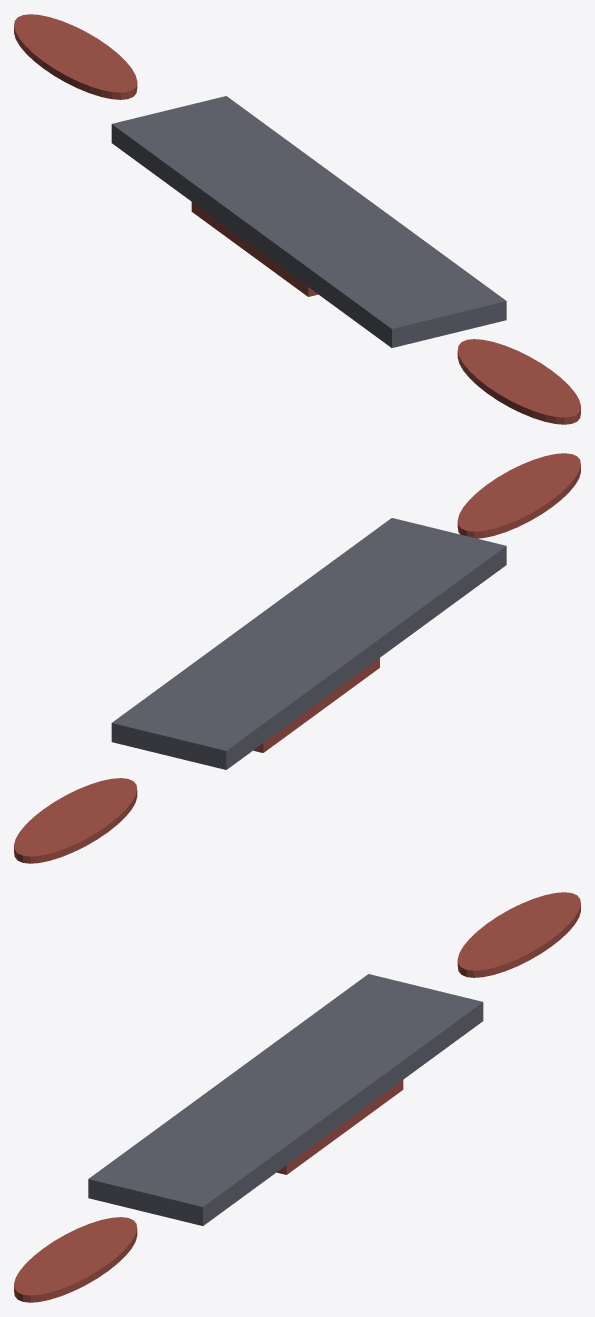
File: SU_SvyatogorCruiser_LOD1.glb
3 views of the same model, one above another, from view 1: azimuth 30°, elevation 25°; view 2: azimuth 150°, elevation 25°; view 3: azimuth 330°, elevation 25° (orthographic).
Visible parts, largest first — view 1: Cube.001, Cylinder, Cylinder.001, Cube; view 2: Cube.001, Cylinder.001, Cylinder, Cube; view 3: Cube.001, Cylinder, Cylinder.001, Cube.
Boxes of the visible parts, x1,y1,x2,y2 form: Cube.001: (111, 96, 506, 347); Cylinder: (457, 339, 580, 424); Cylinder.001: (14, 14, 137, 99); Cube: (191, 202, 318, 296); Cube.001: (111, 518, 506, 769); Cylinder.001: (14, 778, 137, 863); Cylinder: (457, 453, 580, 538); Cube: (253, 658, 379, 752); Cube.001: (88, 974, 483, 1225); Cylinder: (14, 1217, 137, 1302); Cylinder.001: (457, 892, 580, 977); Cube: (276, 1080, 403, 1174).
Size of what is drawn, in the model's own units: 3.52 by 1.47 by 29.14.
